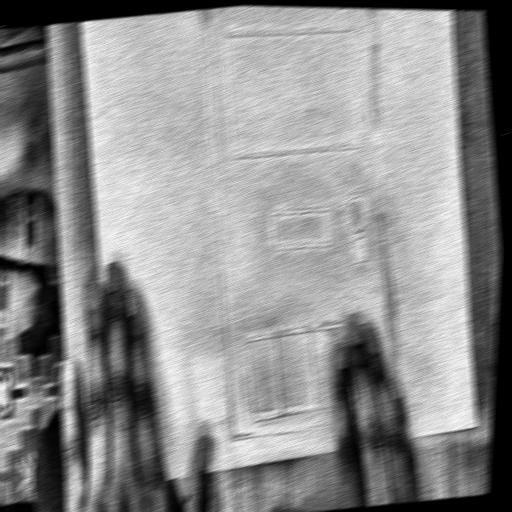bottom_left: (114, 476, 124, 486)
bottom_right: (472, 418, 481, 431)
door: (198, 0, 408, 448)
